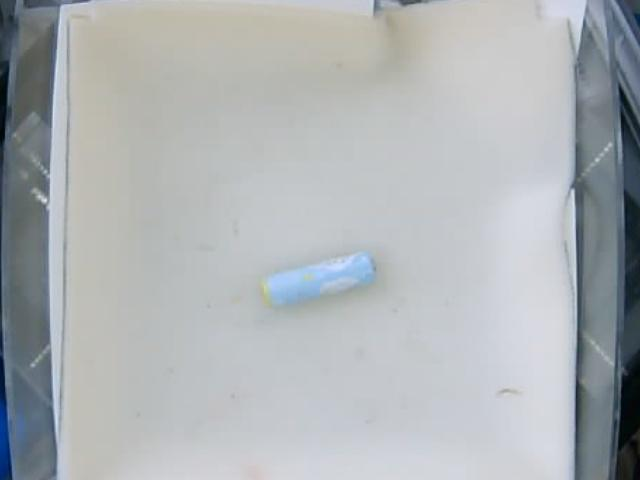Battery: (260, 251, 377, 303)
